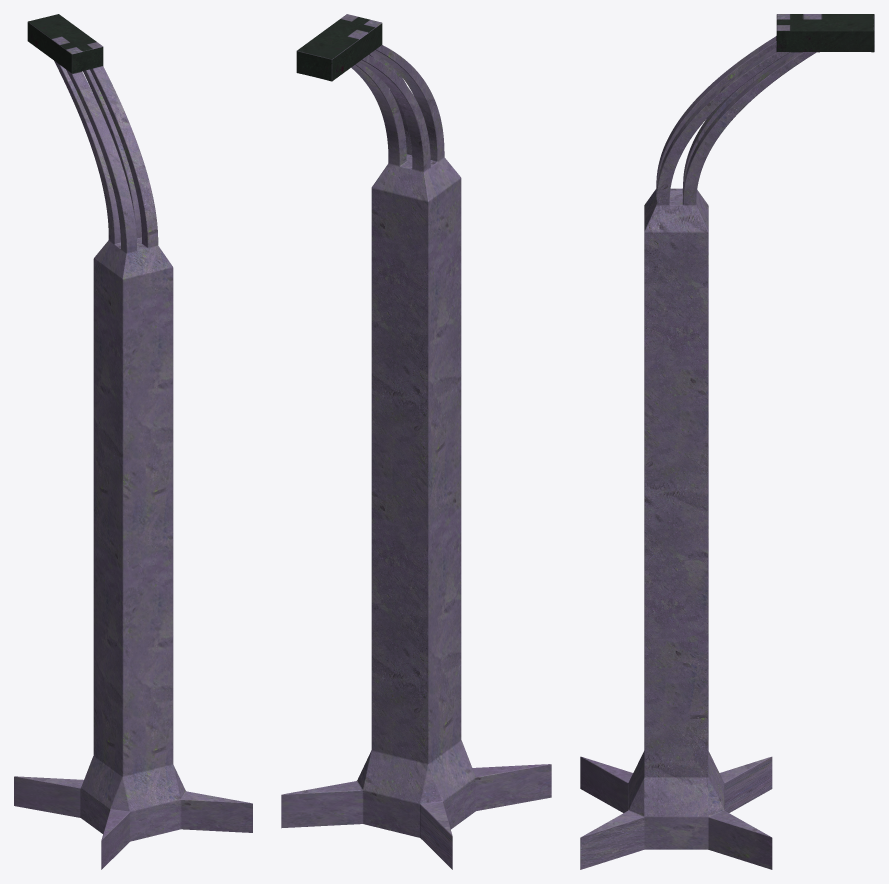
Rendered from Lamp Post.obj.
3 renders of one model, left to right at view 1: azimuth 30°, elevation 25°; view 2: azimuth 150°, elevation 25°; view 3: azimuth 270°, elevation 25°, orthographic. The views are drawn at different scales.
Visible parts, largest first — view 1: Lamp_Post_Plane.120; view 2: Lamp_Post_Plane.120; view 3: Lamp_Post_Plane.120.
Part boxes in pixels (x1,y1,x2,y2): Lamp_Post_Plane.120: (14, 14, 252, 869); Lamp_Post_Plane.120: (281, 14, 551, 869); Lamp_Post_Plane.120: (580, 14, 874, 869).
Bounding box in the file's own units: 0.7976 × 3.7 × 1.22.
1 material, 1 textured.
